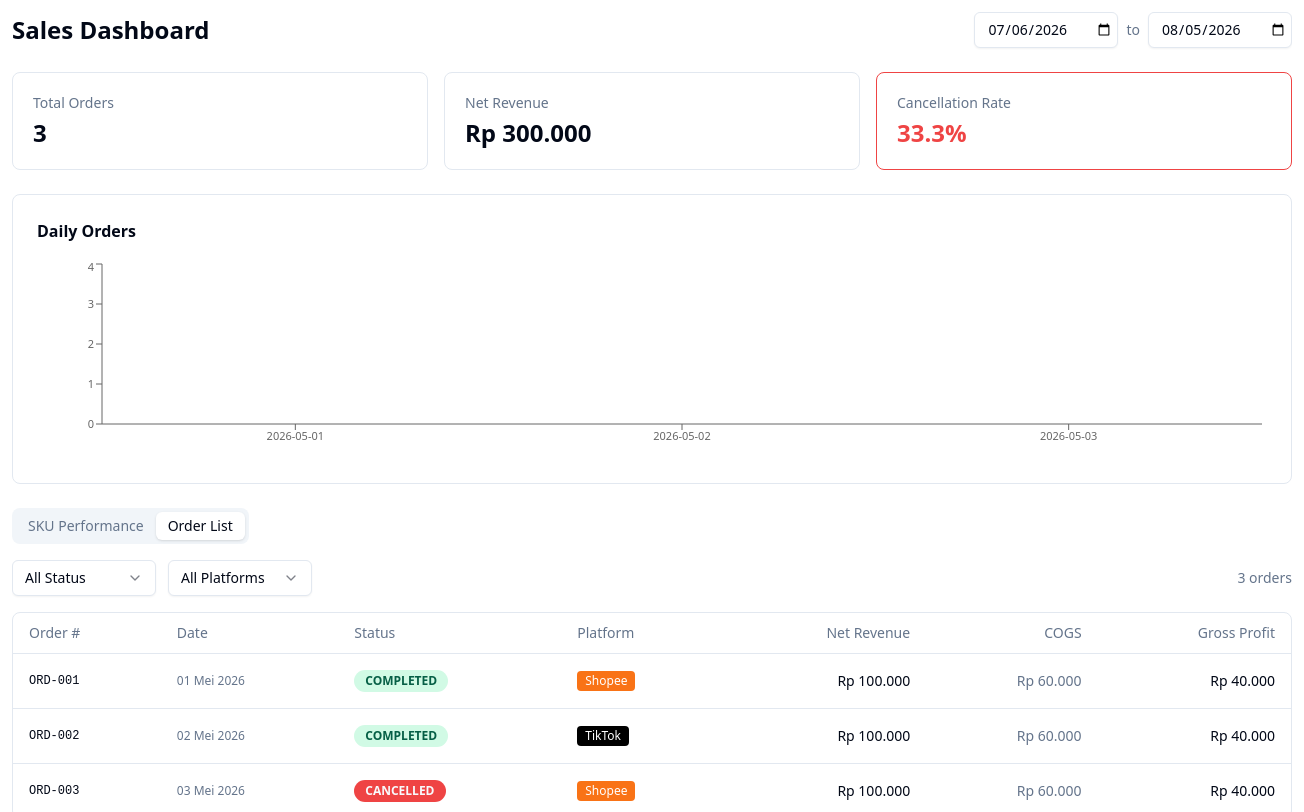
Scenario: renders SKU code in SKU tab
Click the tab "SKU Performance" at (86, 526), box top-left (16, 512), bottom-right (156, 540)
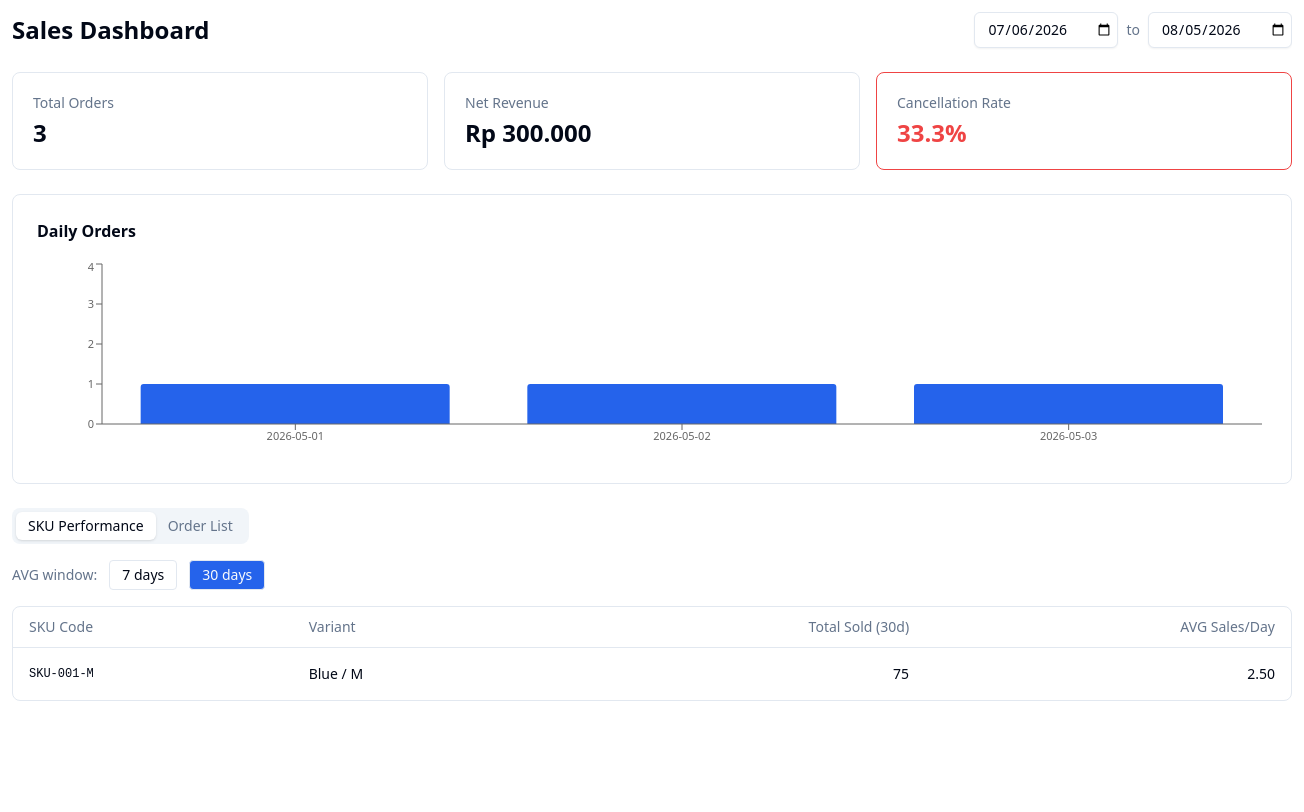
Result: the text "SKU-001-M" is shown at top-left (13, 647), bottom-right (293, 700)
